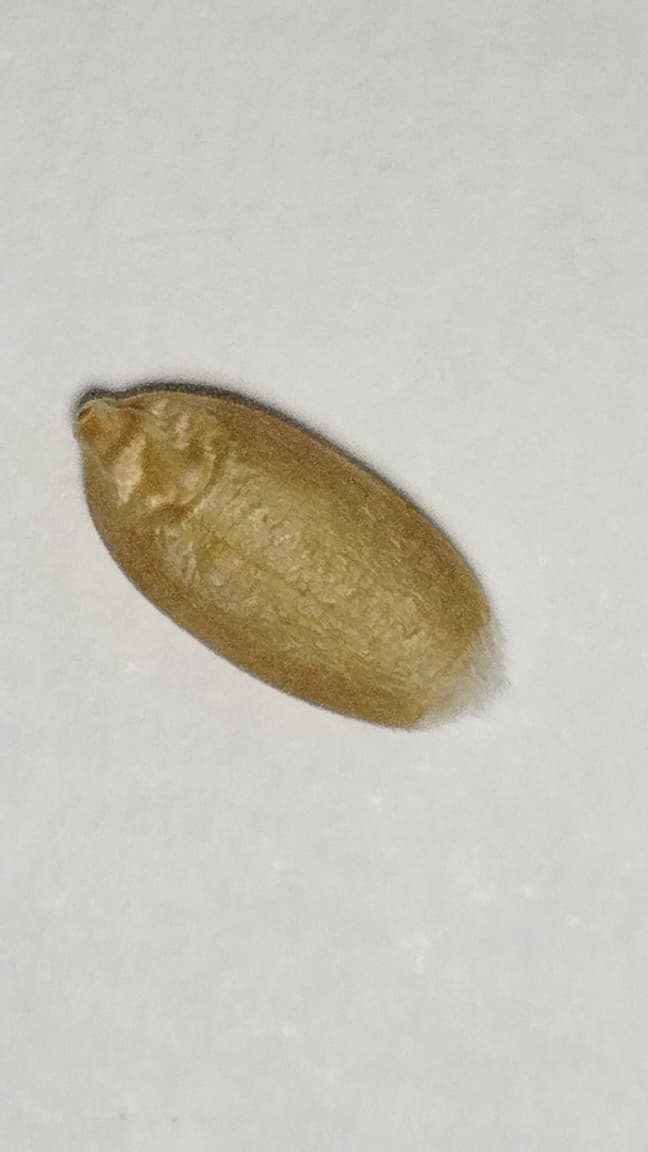healthy: (75, 378, 504, 728)
